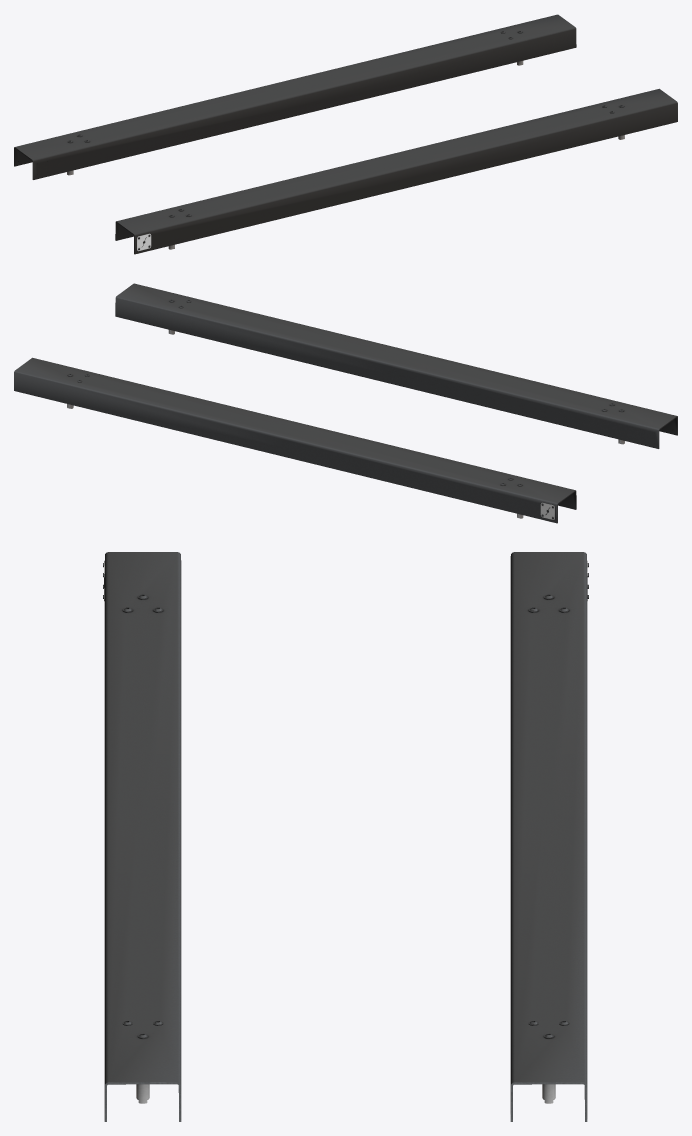
File: amrj16_forks.dae
3 views of the same model, one above another, from view 1: azimuth 30°, elevation 25°; view 2: azimuth 150°, elevation 25°; view 3: azimuth 270°, elevation 25° (orthographic). The views are drawn at different scales.
Parts seen in each view (by area): view 1: amrj16_forks; view 2: amrj16_forks; view 3: amrj16_forks.
Part boxes in pixels (x1,y1,x2,y2): amrj16_forks: [14, 14, 677, 254]; amrj16_forks: [14, 283, 677, 523]; amrj16_forks: [103, 552, 588, 1121].
Bounding box in the file's own units: 1.15 × 0.4456 × 0.0673.
1 material, 1 textured.
